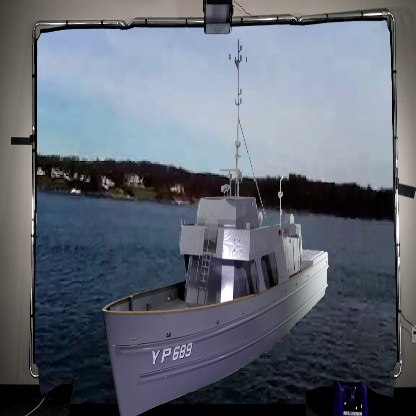YP689: (101, 46, 329, 416)
